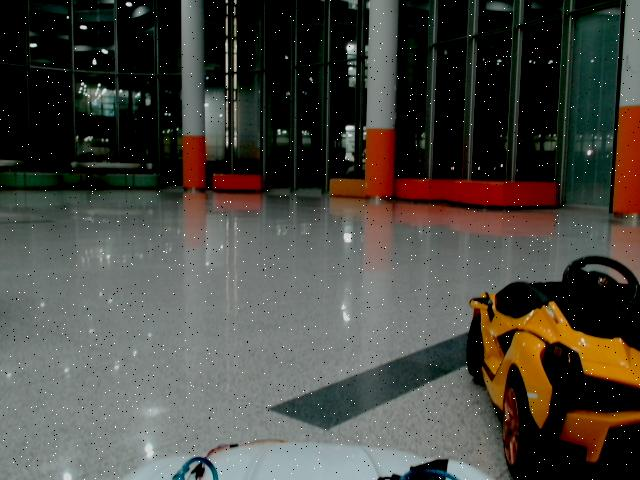car: (466, 255, 640, 476)
